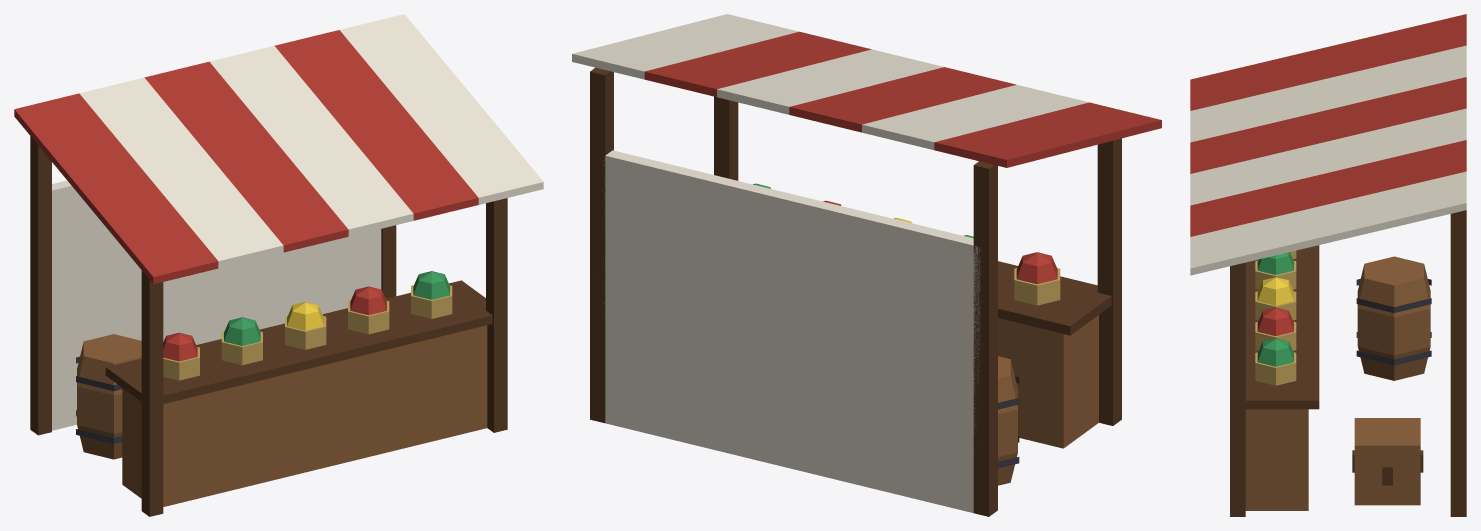
Rendered from Market_Stall_A.fbx.
The picture shows the model from 3 angles, left to right: view 1: azimuth 30°, elevation 25°; view 2: azimuth 150°, elevation 25°; view 3: azimuth 270°, elevation 25°; orthographic projection. The views are drawn at different scales.
Parts seen in each view (by area): view 1: Market_Stall_A; view 2: Market_Stall_A; view 3: Market_Stall_A.
Part boxes in pixels (bbox=[...]): Market_Stall_A: bbox=[14, 14, 543, 516]; Market_Stall_A: bbox=[572, 14, 1161, 516]; Market_Stall_A: bbox=[1190, 14, 1466, 516].
Bounding box in the file's own units: 3.4 × 2.7 × 2.1.
